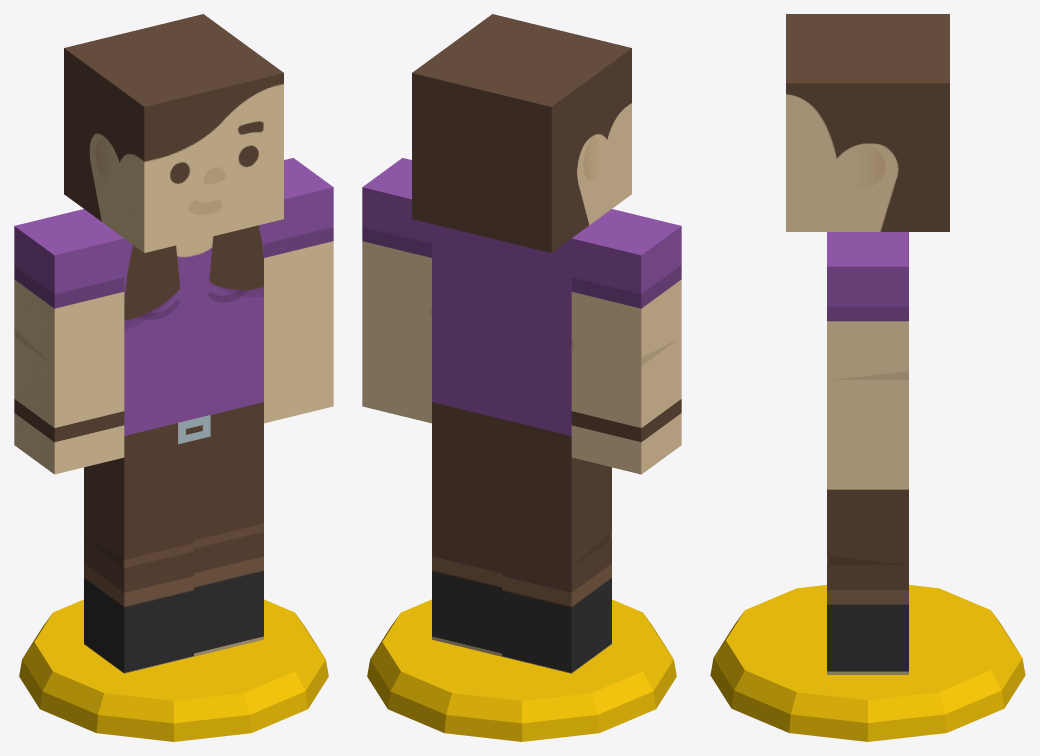
Rendered from blockhead2.glb.
3 renders of one model, left to right at view 1: azimuth 30°, elevation 25°; view 2: azimuth 150°, elevation 25°; view 3: azimuth 270°, elevation 25°, orthographic.
Parts seen in each view (by area): view 1: Head1.001_lambert2_0, Body1.001_lambert2_0, ArmRight1.001_lambert2_0, Cylinder.001__0, LegRight1.001_lambert2_0, ArmLeft1.001_lambert2_0, LegLeft1.001_lambert2_0; view 2: Head1.001_lambert2_0, Body1.001_lambert2_0, ArmRight1.001_lambert2_0, Cylinder.001__0, LegRight1.001_lambert2_0, ArmLeft1.001_lambert2_0, LegLeft1.001_lambert2_0; view 3: Head1.001_lambert2_0, Cylinder.001__0, ArmLeft1.001_lambert2_0, LegLeft1.001_lambert2_0.
Boxes of the visible parts, x1=… form: Head1.001_lambert2_0: x1=64, y1=14, x2=283, y2=252; Body1.001_lambert2_0: x1=124, y1=224, x2=263, y2=457; ArmRight1.001_lambert2_0: x1=14, y1=209, x2=124, y2=474; Cylinder.001__0: x1=19, y1=599, x2=328, y2=741; LegRight1.001_lambert2_0: x1=84, y1=440, x2=193, y2=673; ArmLeft1.001_lambert2_0: x1=264, y1=158, x2=333, y2=423; LegLeft1.001_lambert2_0: x1=194, y1=423, x2=263, y2=656; Head1.001_lambert2_0: x1=412, y1=14, x2=631, y2=252; Body1.001_lambert2_0: x1=432, y1=224, x2=571, y2=457; ArmRight1.001_lambert2_0: x1=571, y1=209, x2=681, y2=474; Cylinder.001__0: x1=367, y1=599, x2=676, y2=741; LegRight1.001_lambert2_0: x1=502, y1=440, x2=611, y2=673; ArmLeft1.001_lambert2_0: x1=362, y1=158, x2=431, y2=423; LegLeft1.001_lambert2_0: x1=432, y1=423, x2=501, y2=656; Head1.001_lambert2_0: x1=786, y1=14, x2=949, y2=231; Cylinder.001__0: x1=710, y1=585, x2=1025, y2=741; ArmLeft1.001_lambert2_0: x1=827, y1=232, x2=908, y2=489; LegLeft1.001_lambert2_0: x1=827, y1=489, x2=908, y2=674.
Size of the model in its own units: 1.07 by 2.26 by 1.03.
2 materials, 1 textured.
